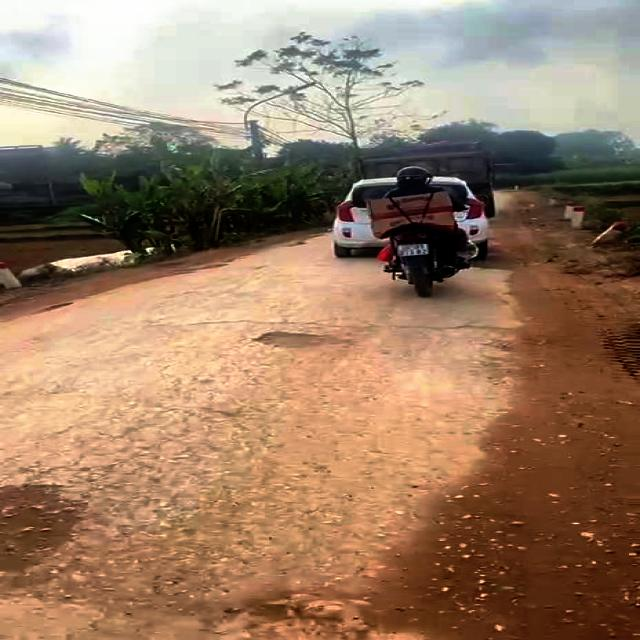pothole: (0, 472, 101, 577), (248, 330, 359, 352)
